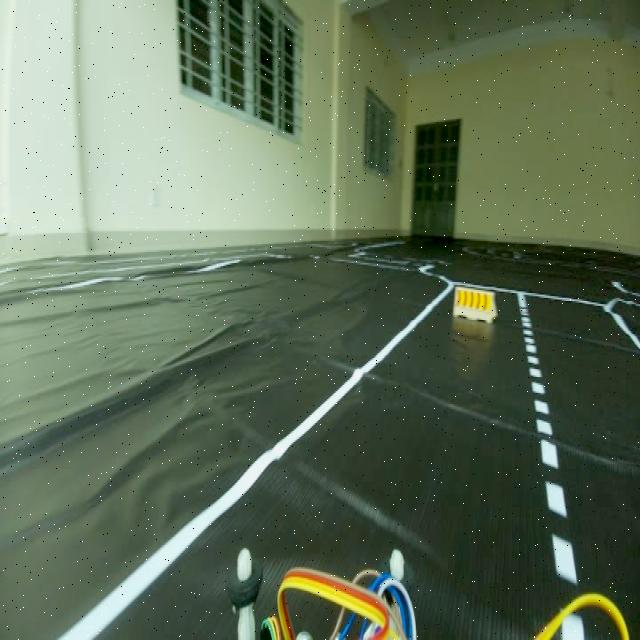roadblock: (452, 285, 498, 326)
